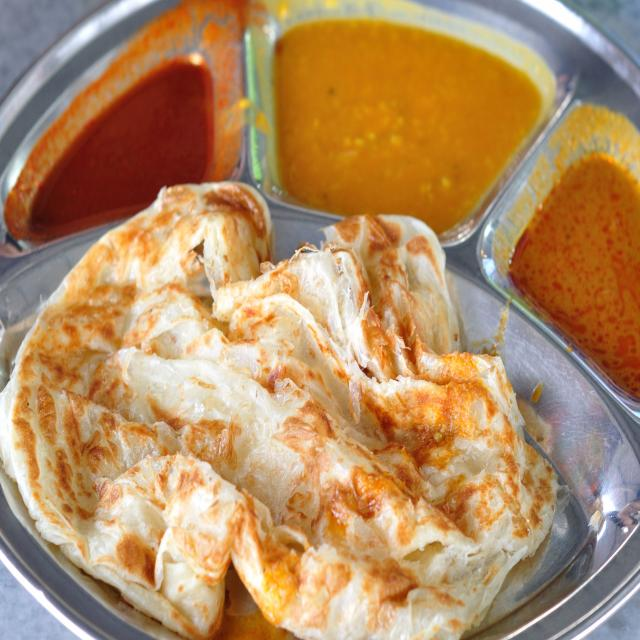Paratha: (1, 178, 560, 629)
